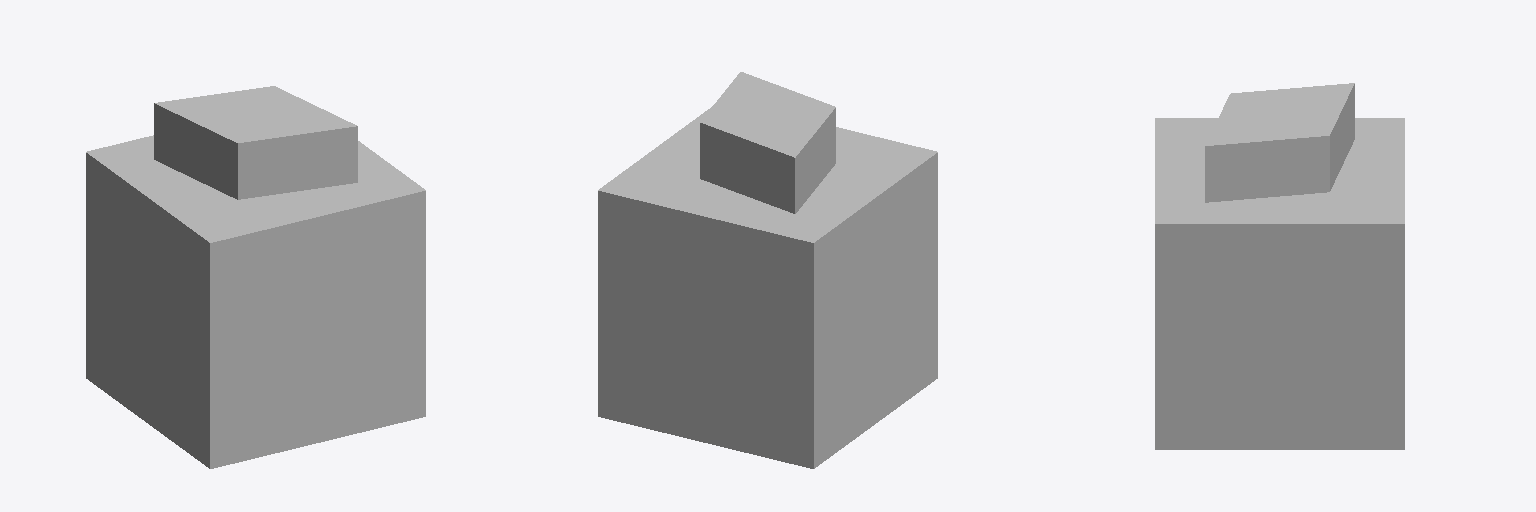
Rendered from Diamond_cube_cap_rotated45_preprocessed.obj.
3 views of the same model, side by side, from view 1: azimuth 30°, elevation 25°; view 2: azimuth 150°, elevation 25°; view 3: azimuth 270°, elevation 25° (orthographic).
Bounding box in the file's own units: 0.08 × 0.1 × 0.08.